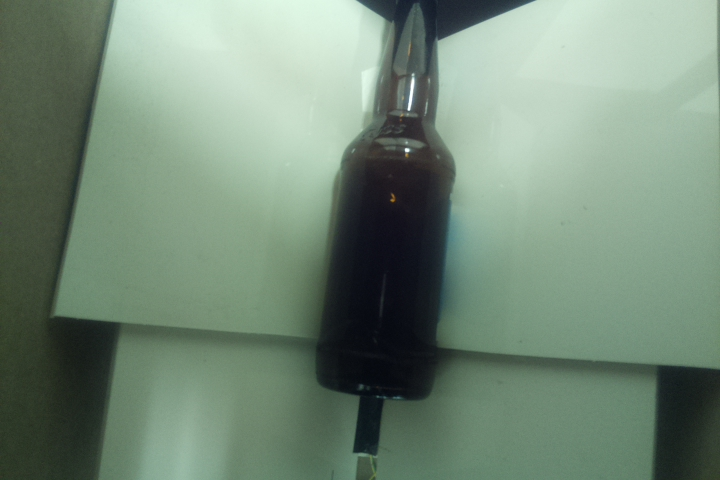makju: (316, 1, 457, 400)
